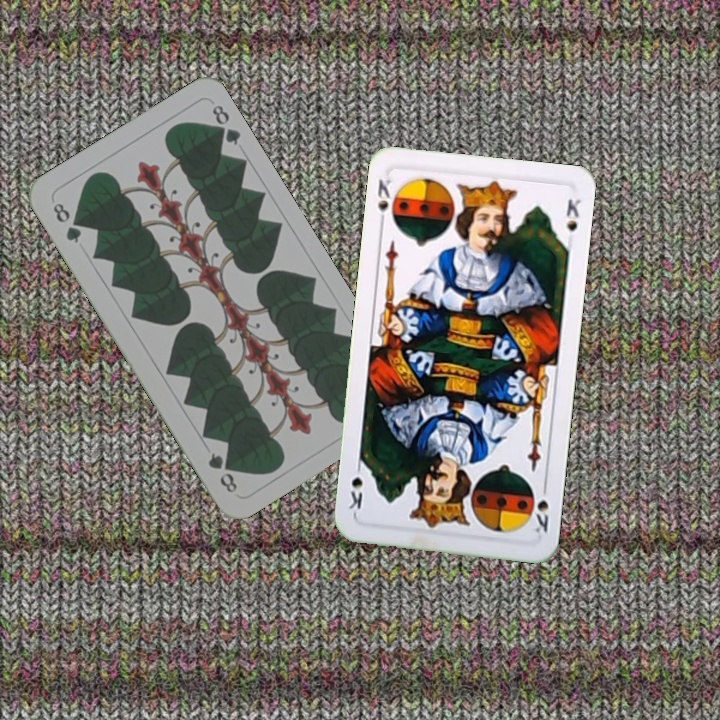G8: (48, 198, 84, 246)
SK: (373, 175, 394, 230), (531, 478, 551, 535)
